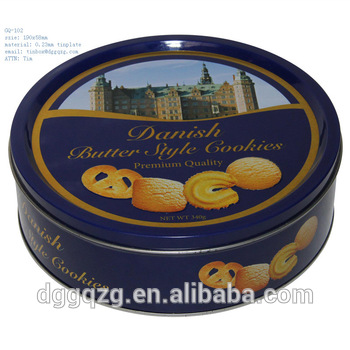metal: (7, 33, 343, 318)
